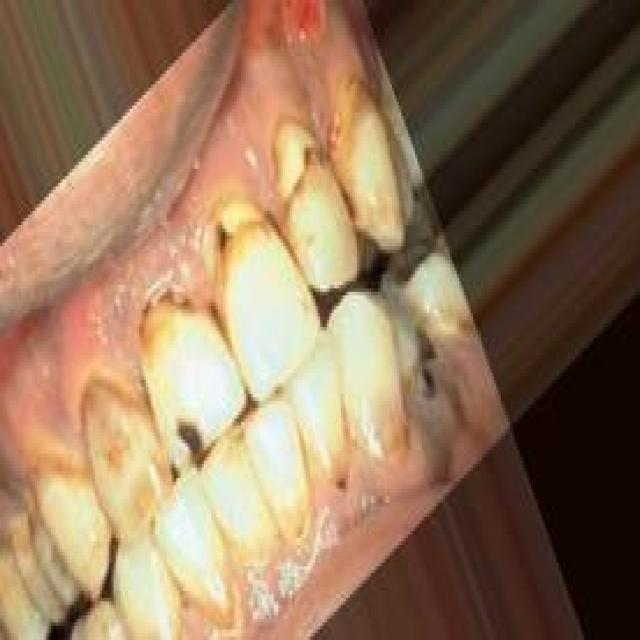caries: (194, 184, 264, 306), (404, 327, 453, 420), (280, 126, 328, 195), (169, 411, 219, 474), (133, 282, 194, 333)
